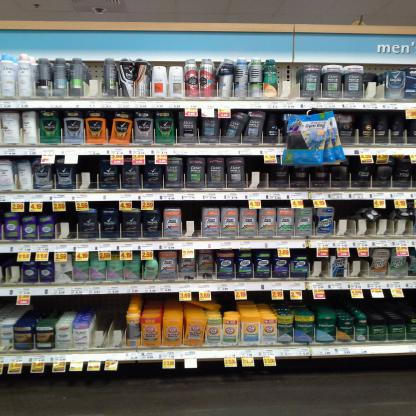Void: (96, 292, 125, 346), (358, 219, 414, 236), (274, 60, 296, 96), (243, 158, 267, 187), (182, 202, 200, 237), (85, 60, 102, 96), (335, 202, 352, 233), (77, 159, 96, 185), (57, 214, 72, 235)
